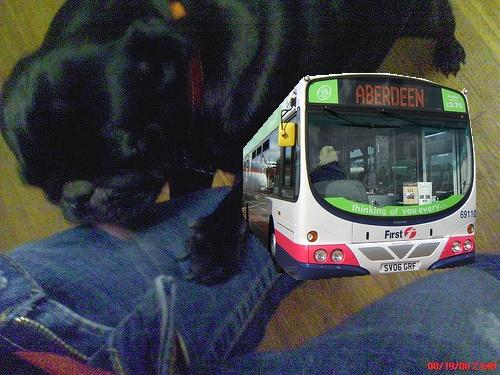tampered: (243, 74, 476, 280)
